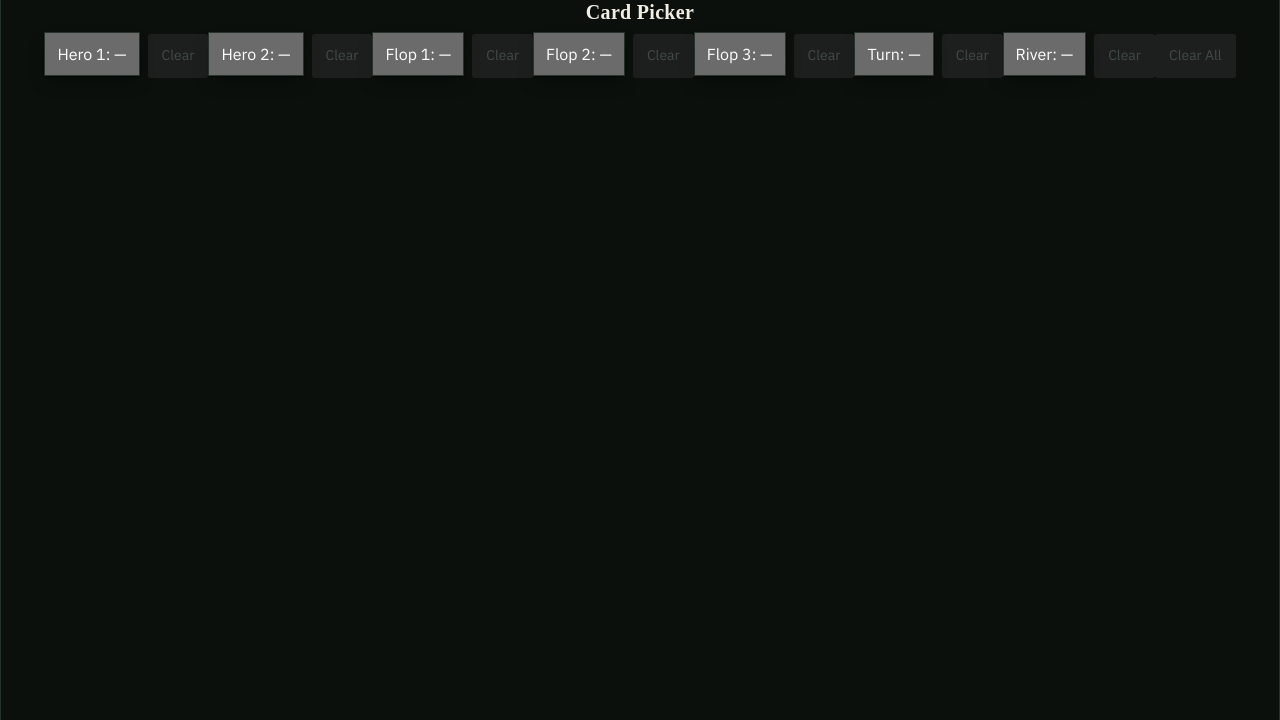
Test case: CardPicker › clicking a slot opens the picker-panel dialog headed "Pick a card for {Slot Name}"
Click the button with test id "picker-slot-hero-0".
click(92, 54)  # box [44,32,140,76]
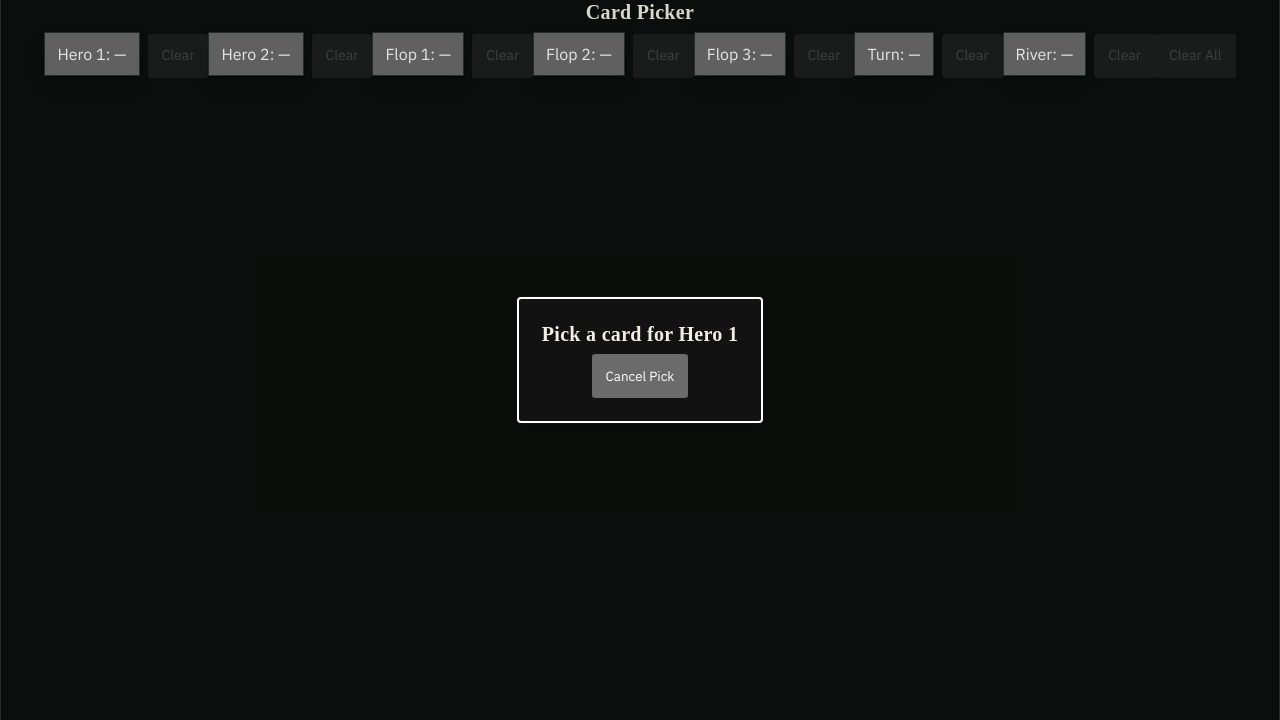
Check: the heading "Pick a card for Hero 1" is shown, box [542,322,738,346]
